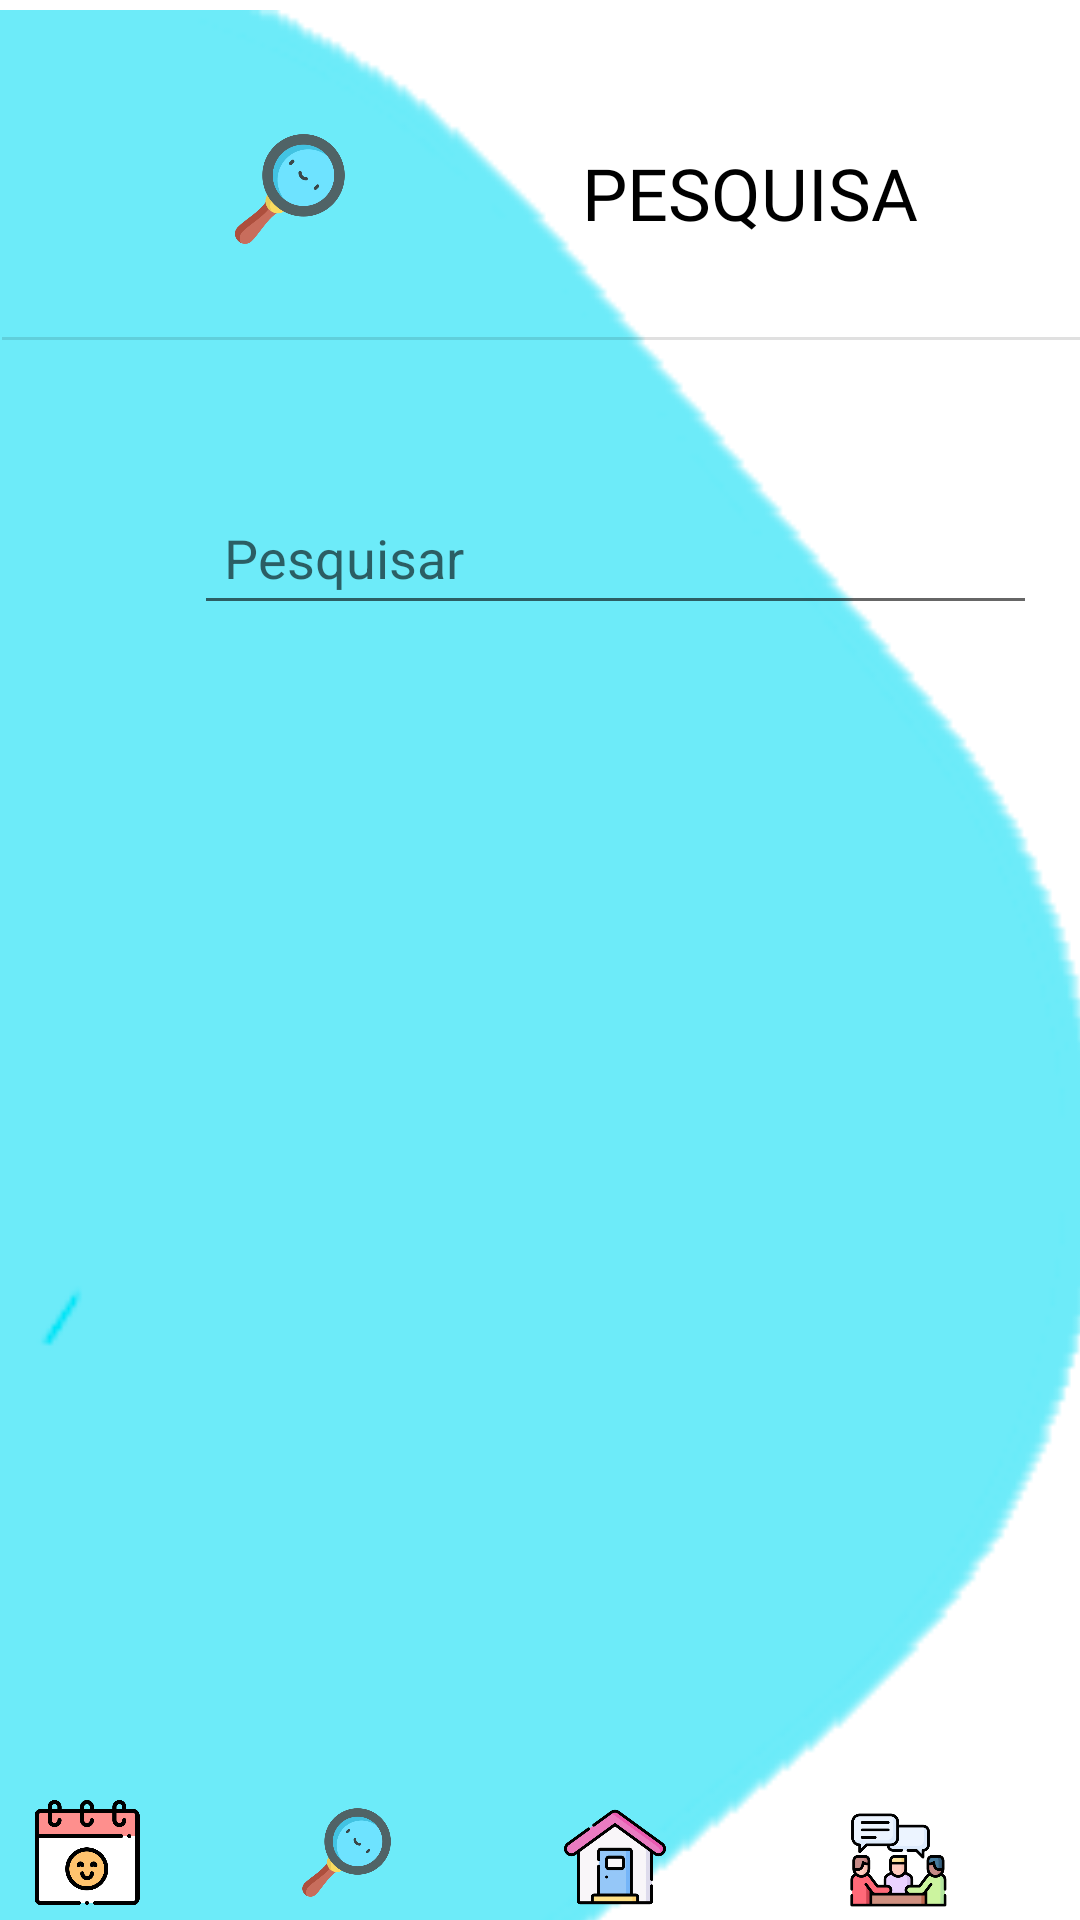

Named icons in this screenshot (1080px x 1920px) and their bounding boxes, (x1, y1, x2, y2):
bdenavecagao calendario: (35, 1800, 140, 1905)
bdenavecagao home: (564, 1810, 690, 1908)
bdenavecagao pesquisa: (235, 134, 345, 244), (302, 1808, 391, 1897)
bdenavecagao talkprofessor: (850, 1813, 947, 1907)
